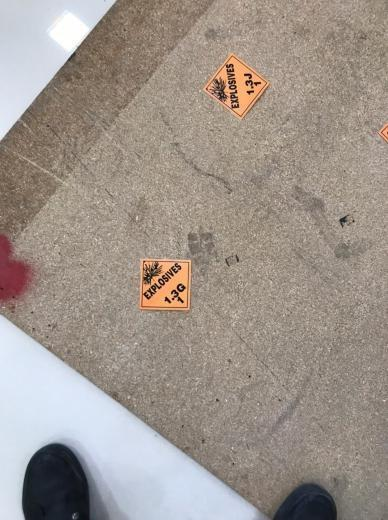explosive: (203, 55, 271, 118), (139, 258, 191, 312)
